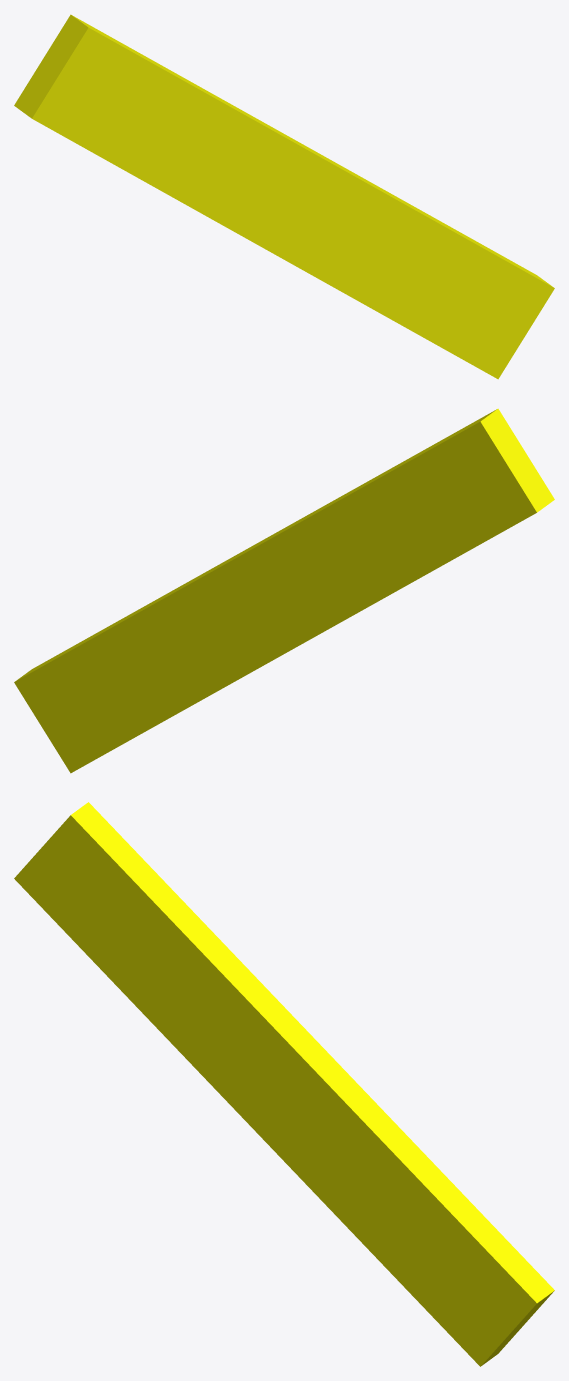
File: Beam_low.fbx
3 views of the same model, one above another, from view 1: azimuth 30°, elevation 25°; view 2: azimuth 150°, elevation 25°; view 3: azimuth 330°, elevation 25° (orthographic).
Visible parts, largest first — view 1: Beam_Low; view 2: Beam_Low; view 3: Beam_Low.
Part boxes in pixels (x1=…): Beam_Low: x1=14, y1=14, x2=554, y2=379; Beam_Low: x1=14, y1=408, x2=554, y2=773; Beam_Low: x1=14, y1=802, x2=554, y2=1366.
Size of the model in its own units: 165 by 136 by 9.79.
